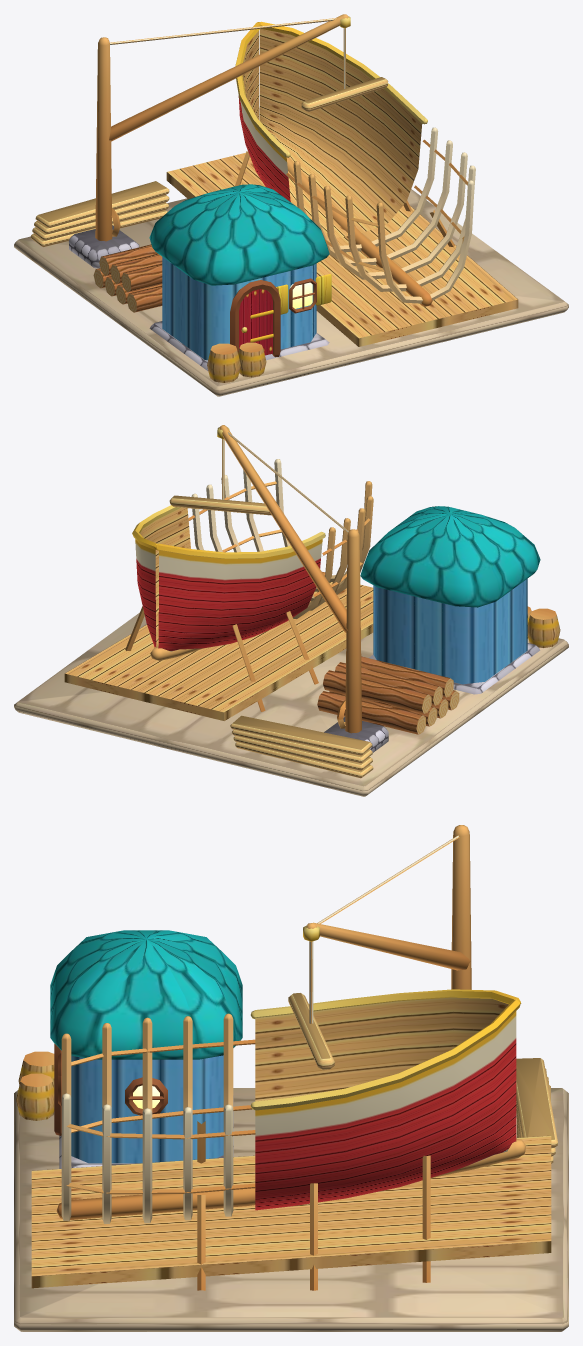
File: shipyard.glb
3 views of the same model, one above another, from view 1: azimuth 30°, elevation 25°; view 2: azimuth 150°, elevation 25°; view 3: azimuth 270°, elevation 25° (orthographic). The views are drawn at different scales.
Parts seen in each view (by area): view 1: shipyard; view 2: shipyard; view 3: shipyard.
Boxes of the visible parts, x1,y1,x2,y2 form: shipyard: (14,14,568,396); shipyard: (14,425,568,796); shipyard: (14,825,568,1331).
Bounding box in the file's own units: 11.1 × 7.37 × 11.1.
Materials: 4 (4 with a texture image).
